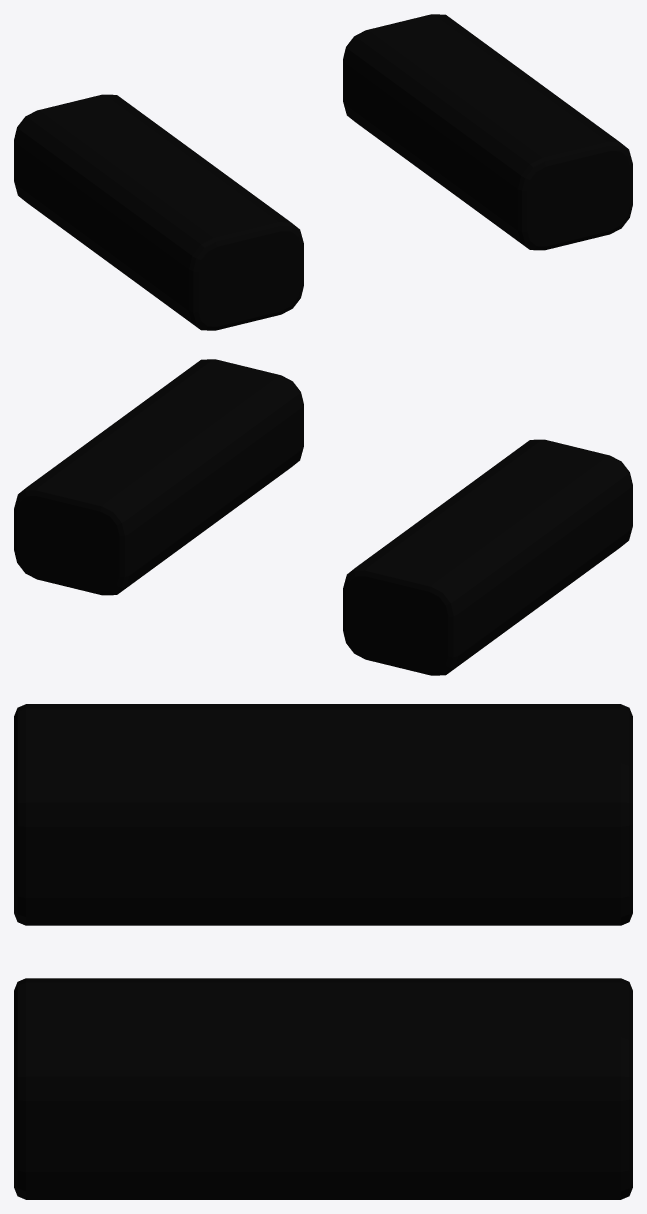
The picture shows the model from 3 angles, top to bottom: view 1: azimuth 30°, elevation 25°; view 2: azimuth 150°, elevation 25°; view 3: azimuth 270°, elevation 25°; orthographic projection. The views are drawn at different scales.
Visible parts, largest first — view 1: nadrze; view 2: nadrze; view 3: nadrze.
Boxes of the visible parts, x1,y1,x2,y2 form: nadrze: (14, 14, 632, 330); nadrze: (14, 359, 632, 675); nadrze: (14, 704, 632, 1199).
Size of the model in its own units: 1.25 by 0.2503 by 0.8876.
1 material, 1 textured.
